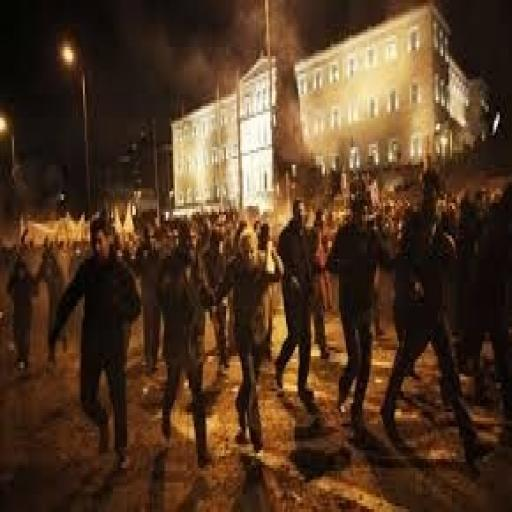running: (46, 209, 145, 474)
